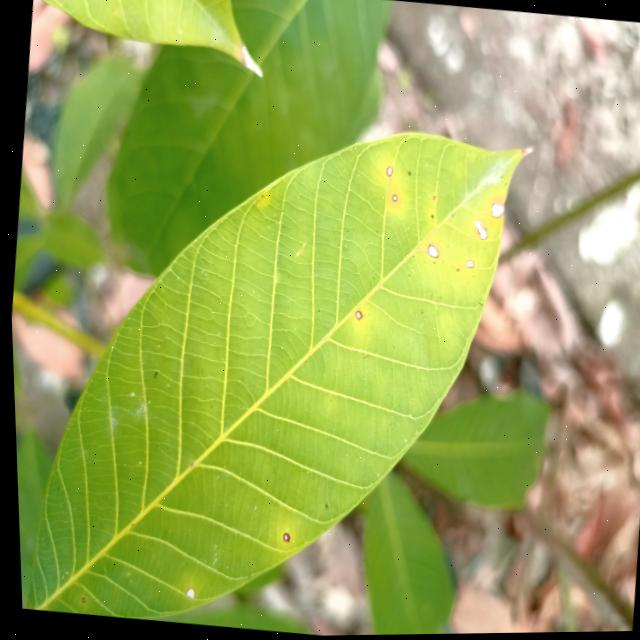Colletotrichum: (424, 246, 435, 260), (180, 586, 189, 599), (383, 167, 391, 178), (462, 261, 471, 270), (277, 532, 285, 542), (351, 311, 358, 321), (388, 196, 396, 203), (428, 215, 431, 219), (405, 173, 408, 177), (430, 197, 432, 201)
Leaf-Blight: (469, 222, 485, 240), (488, 205, 501, 218)
